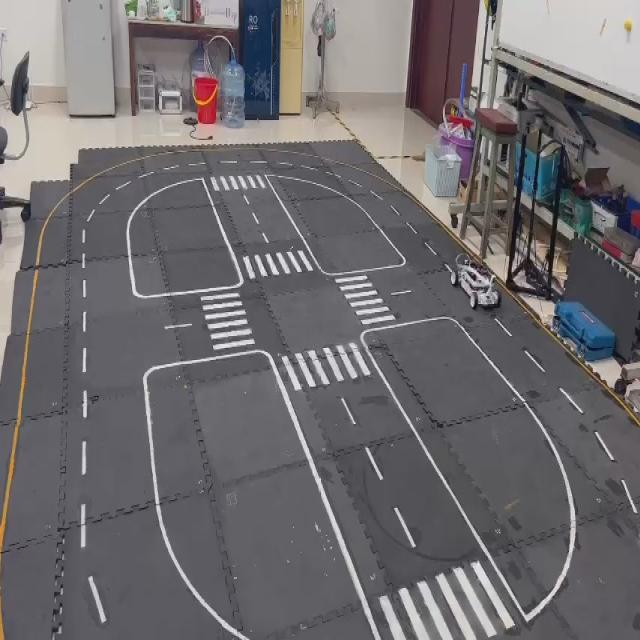SiCo-CAR: (551, 298, 616, 362), (444, 250, 502, 310)
